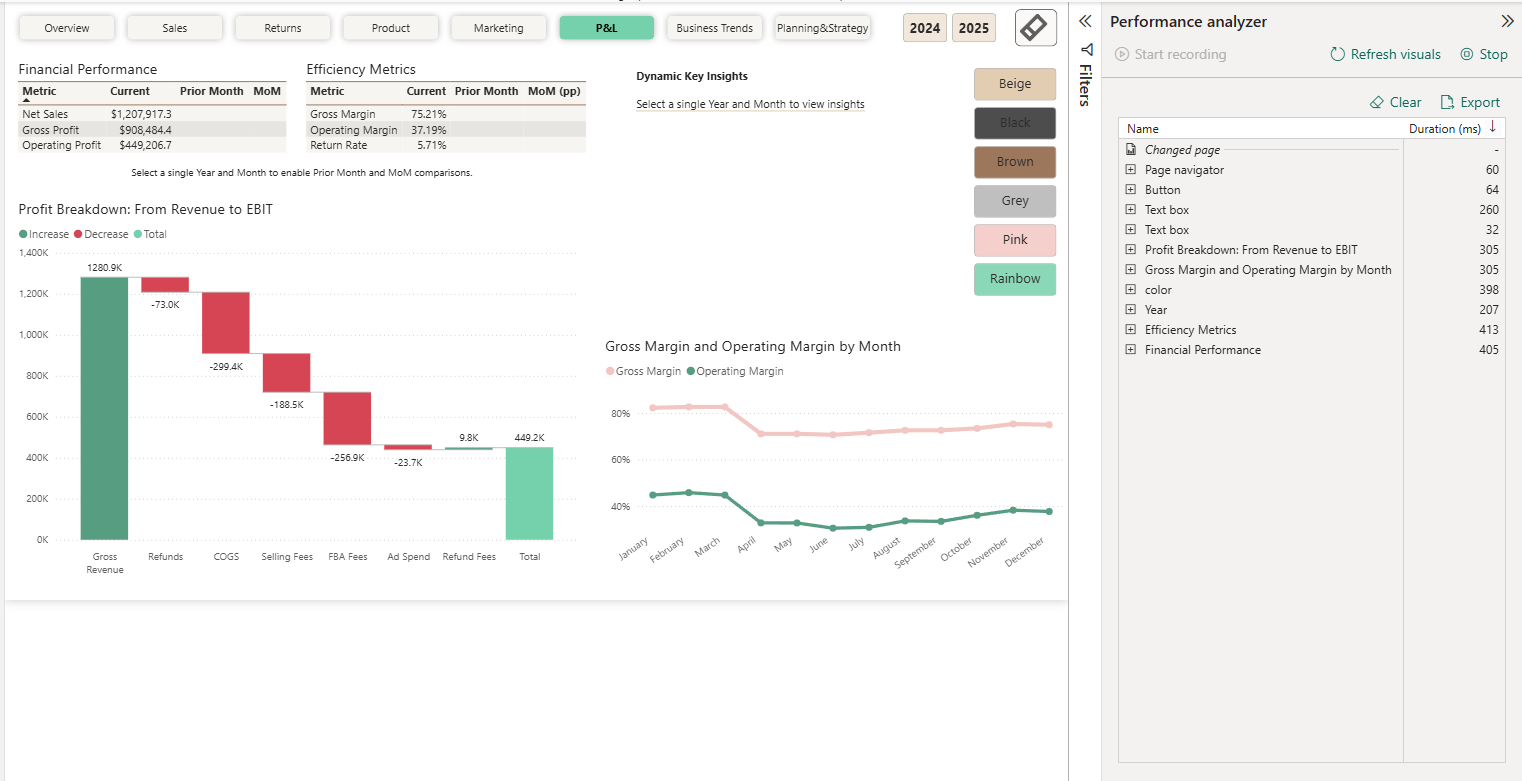

Layout of this report page (visuals, bound fields, positions):
{"tool":"powerbi","page":{"name":"P&L","canvas":[1280,720],"ordinal":5},"visuals":[{"type":"advancedSlicerVisual","fields":{"Values":["dim_product.color"]},"box":[1161.9,74.6,109.6,285.3],"z":0},{"type":"waterfallChart","title":"Profit Breakdown: From Revenue to EBIT","fields":{"Category":["Waterfall steps.Step"],"Y":["_measures.Waterfall Value"]},"box":[10.4,236.2,684.9,462.9],"z":1000},{"type":"advancedSlicerVisual","fields":{"Values":["dim_date.year_number"]},"box":[1076.6,8.2,122.8,45.8],"z":2000},{"type":"pageNavigator","box":[10.1,8.2,1043.6,45.8],"z":3000},{"type":"actionButton","box":[1216.2,8.8,51,45.1],"z":4000},{"type":"lineChart","fields":{"Category":["dim_date.month_name"],"Y":["_measures.Gross Margin %","_measures.Operating Margin %"]},"box":[717.9,401.5,562.1,305.1],"z":5000},{"type":"pivotTable","title":"Financial Performance","fields":{"Rows":["P&L Metrics.Metric"],"Values":["P&L Metrics.P&L Current","P&L Metrics.P&L Prior Month","P&L Metrics.P&L MoM %"]},"box":[10.6,67.4,342.3,122.4],"z":6000},{"type":"pivotTable","title":"Efficiency Metrics","fields":{"Rows":["P&L Efficiency Metrics.Metric"],"Values":["P&L Efficiency Metrics.P&L Current EM","P&L Efficiency Metrics.P&L Prior Month EM","P&L Efficiency Metrics.P&L EM MoM %"]},"box":[358.2,67.4,353.8,122.4],"z":7000},{"type":"textbox","box":[754.8,74.6,355.2,257.9],"z":8000},{"type":"textbox","box":[146.4,189.9,423.2,28.3],"z":9000}]}

Visuals, with their boxes on the page's 1280x720 design canvas (x1, y1, x2, y2). These are canvas units, not pixel positions in the 1522x781 screenshot, which may show the page scaled, cropped or inside an application window:
advancedSlicerVisual - dim_product.color: locate(1162, 75, 1272, 360)
"Profit Breakdown: From Revenue to EBIT" waterfallChart: locate(10, 236, 695, 699)
advancedSlicerVisual - dim_date.year_number: locate(1077, 8, 1199, 54)
pageNavigator: locate(10, 8, 1054, 54)
actionButton: locate(1216, 9, 1267, 54)
lineChart - dim_date.month_name x _measures.Gross Margin %: locate(718, 402, 1280, 707)
"Financial Performance" pivotTable: locate(11, 67, 353, 190)
"Efficiency Metrics" pivotTable: locate(358, 67, 712, 190)
textbox: locate(755, 75, 1110, 332)
textbox: locate(146, 190, 570, 218)
